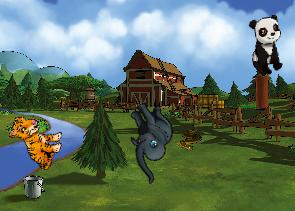elephant: (106, 95, 193, 184)
panda: (247, 14, 286, 77)
tiger: (2, 112, 67, 172)
